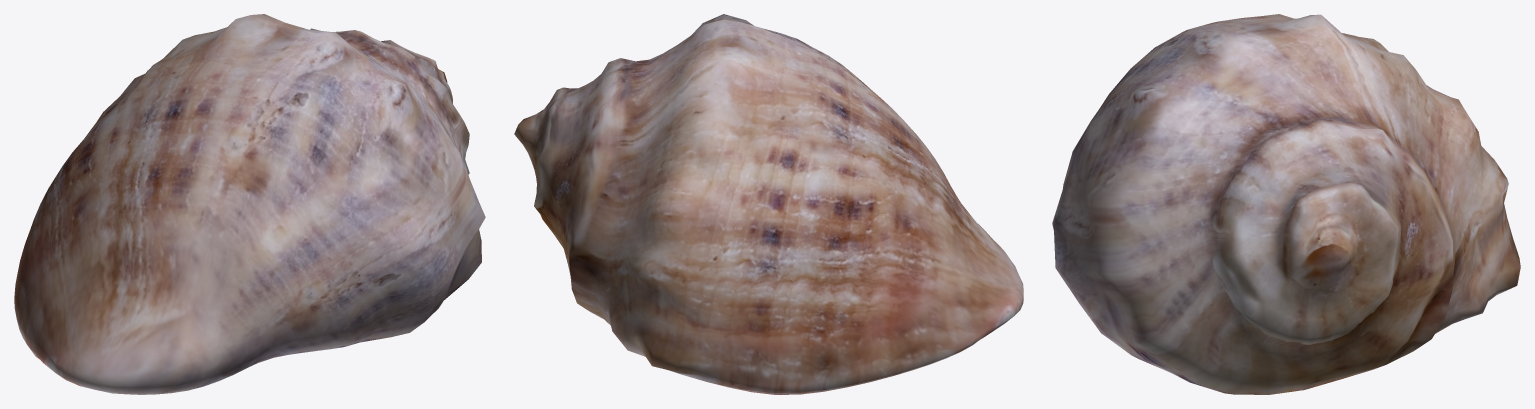
The model's file is Seashell1.fbx.
The picture shows the model from 3 angles, left to right: view 1: azimuth 30°, elevation 25°; view 2: azimuth 150°, elevation 25°; view 3: azimuth 270°, elevation 25°; orthographic projection. The views are drawn at different scales.
Visible parts, largest first — view 1: Seashell1_LOD0; view 2: Seashell1_LOD0; view 3: Seashell1_LOD0.
Part boxes in pixels (x1,y1,x2,y2): Seashell1_LOD0: (14,14,485,394); Seashell1_LOD0: (514,14,1023,394); Seashell1_LOD0: (1052,14,1520,394).
Size of what is drawn, in the model's own units: 21.67 by 13.23 by 17.74.
